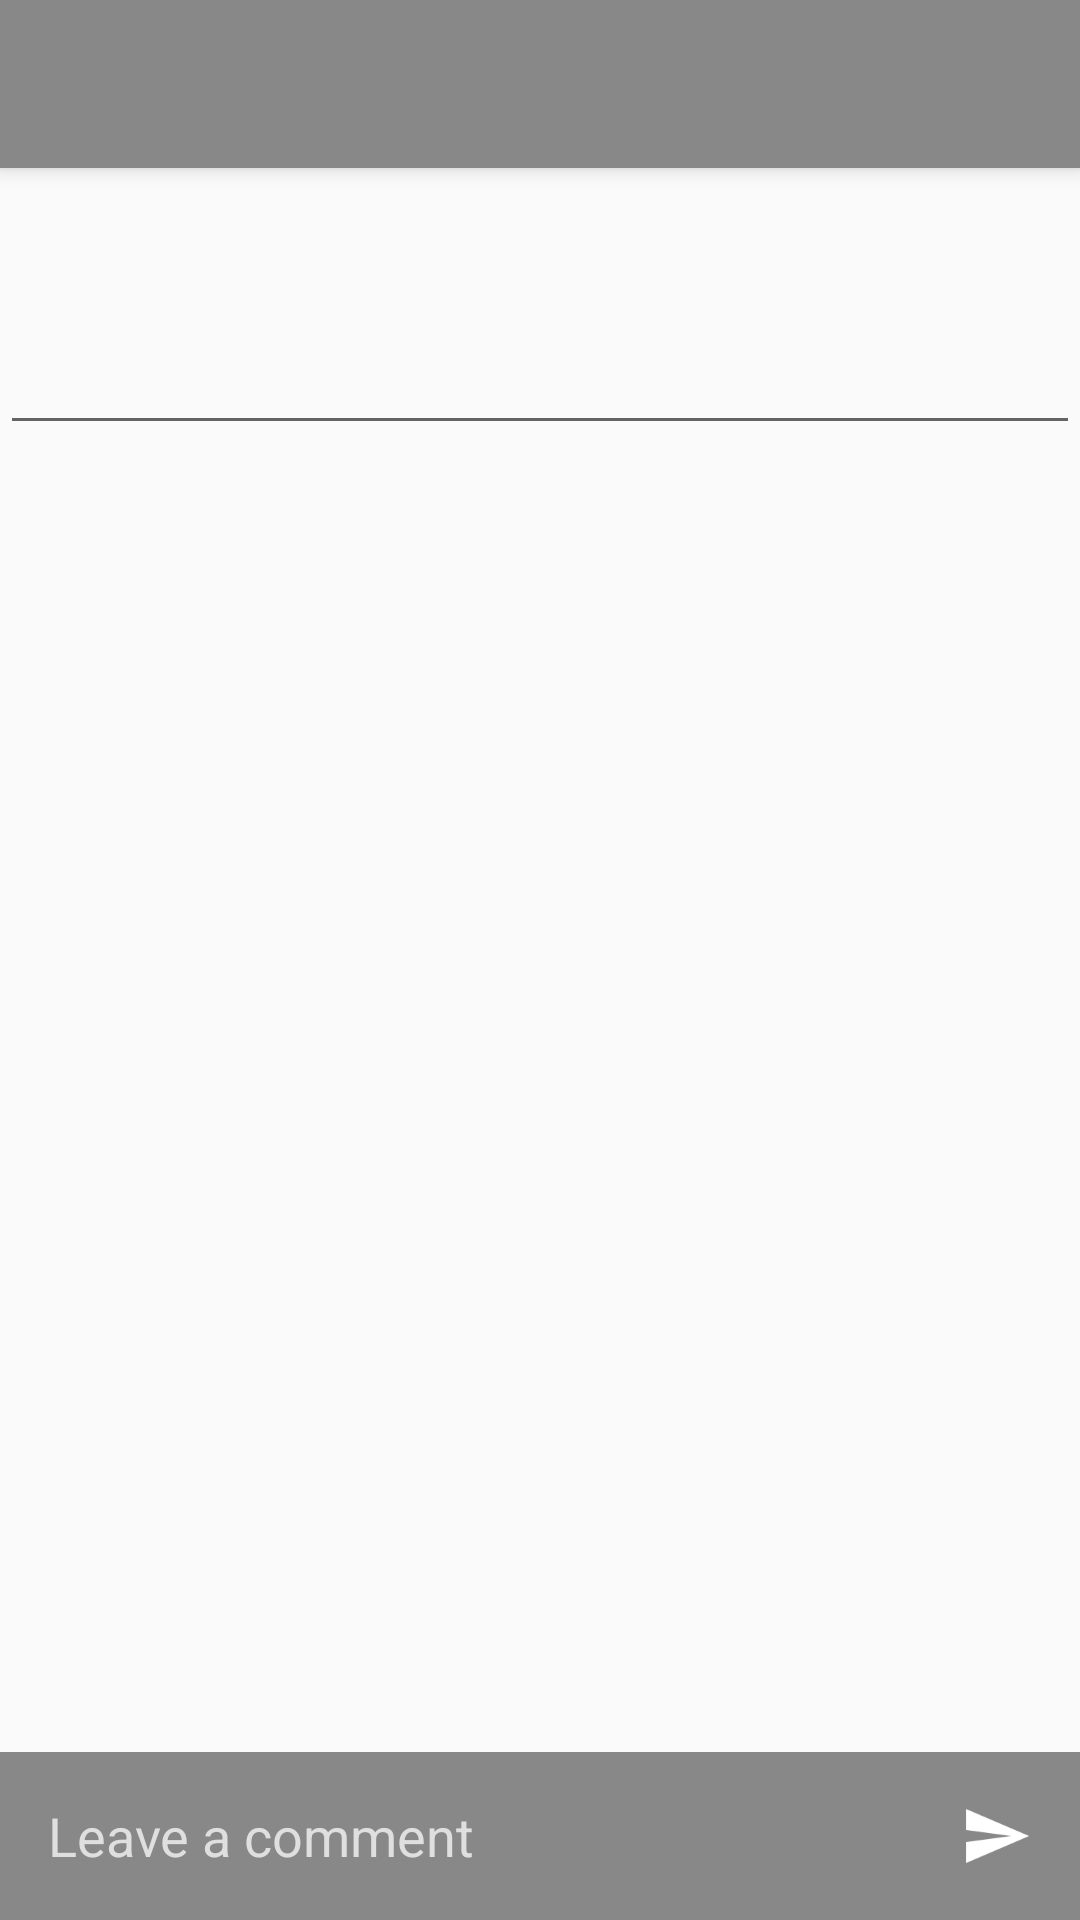

Where icons sit on this 1080px x 1920px app screen, as (x1, y1, x2, y2):
send: (966, 1809, 1029, 1863)
